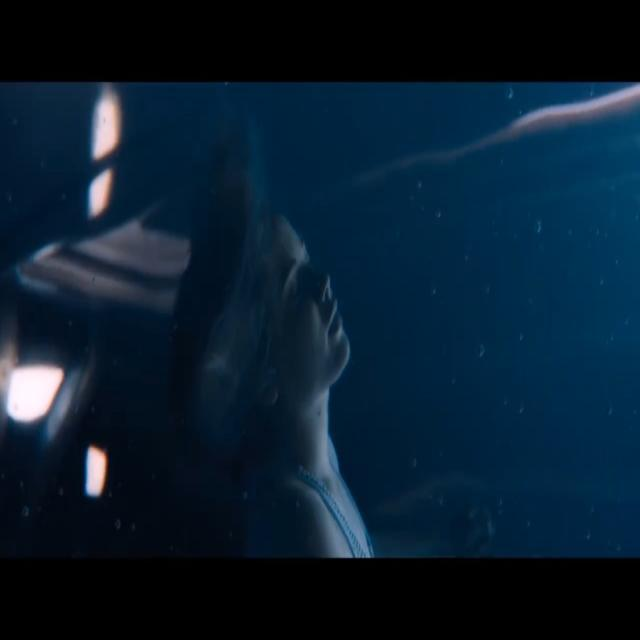Drowning: (173, 183, 374, 558)
